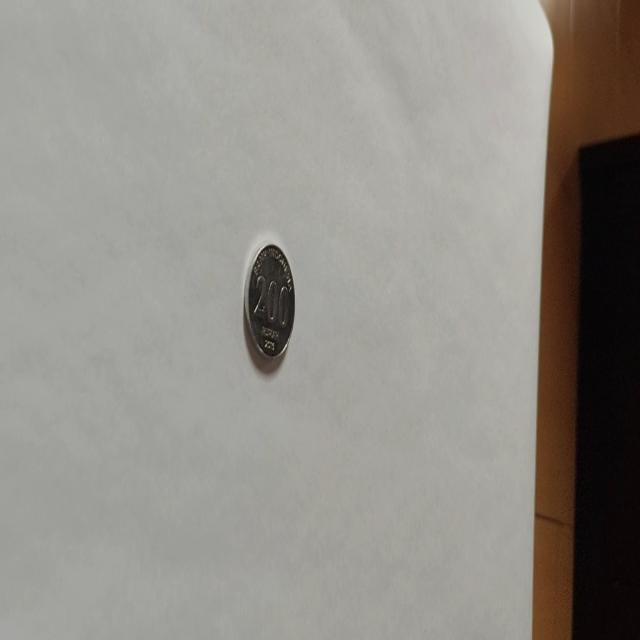dua ratus rupiah: (242, 241, 296, 363)
